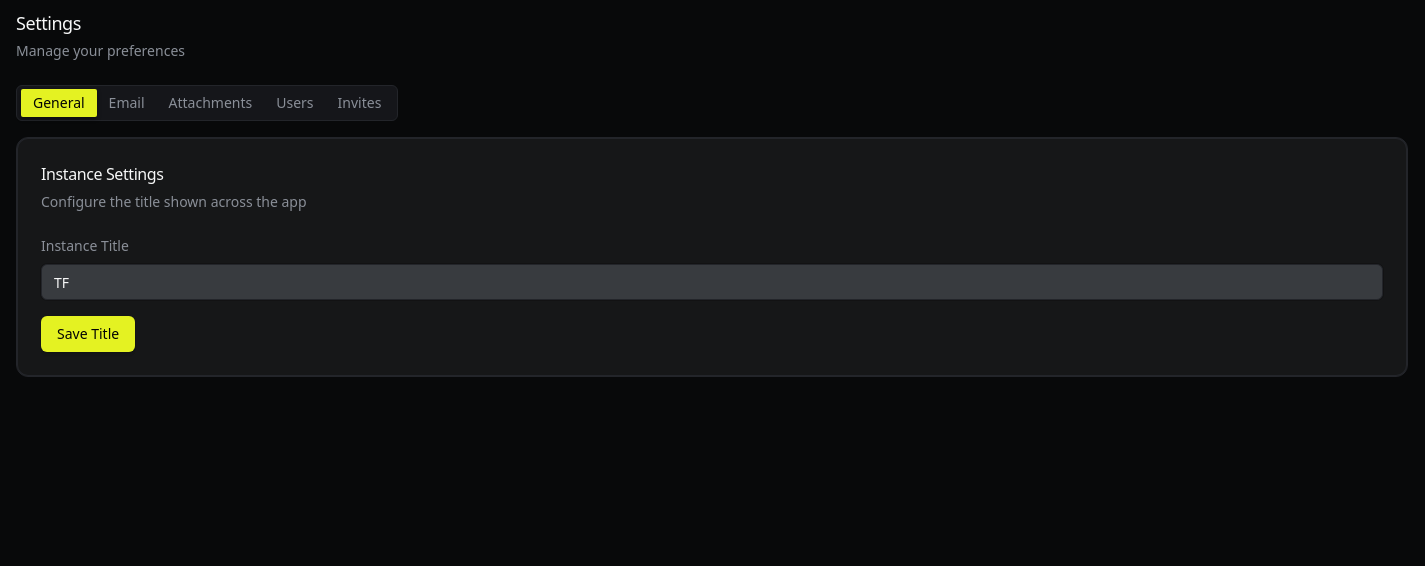
Test: SettingsPage Attachments tab › rejects a non-integer attachment file size and malformed MIME types
Click the tab "Attachments". click: [210, 103]
box: [157,89,264,117]
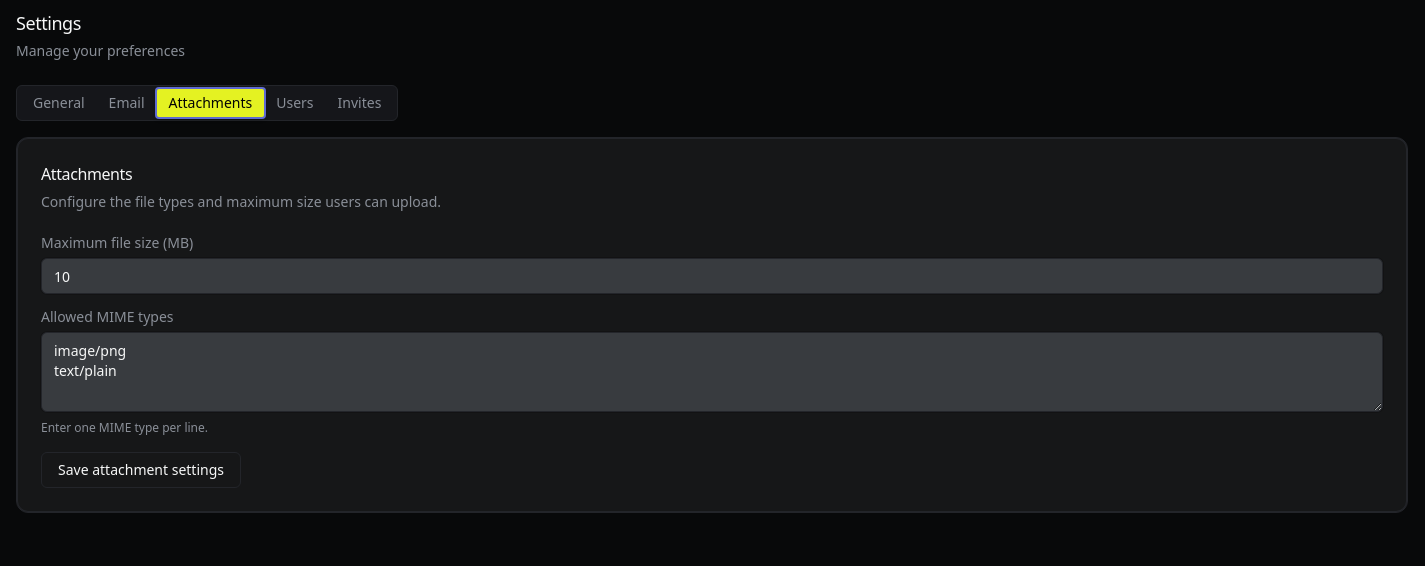
Replace the text in the number field labelled "Maximum file size (MB)" with "1.5". click: [712, 276]
box: [41,258,1383,294]
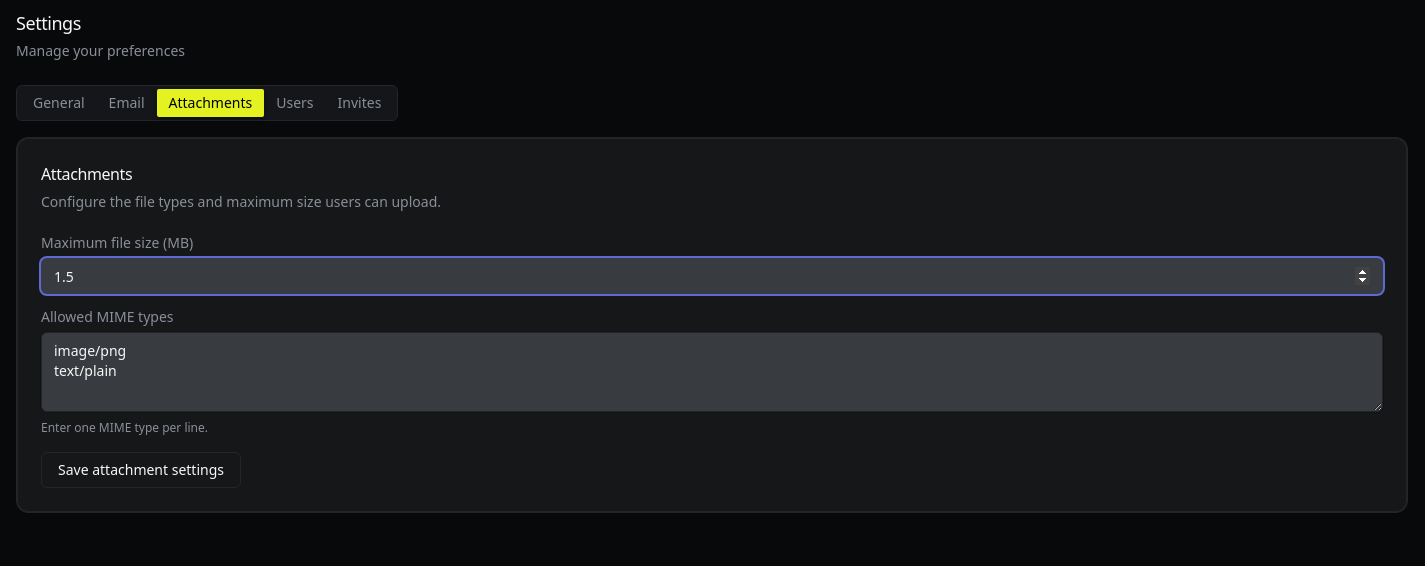
Click the button "Save attachment settings". click: [141, 470]
box: [41,452,241,488]
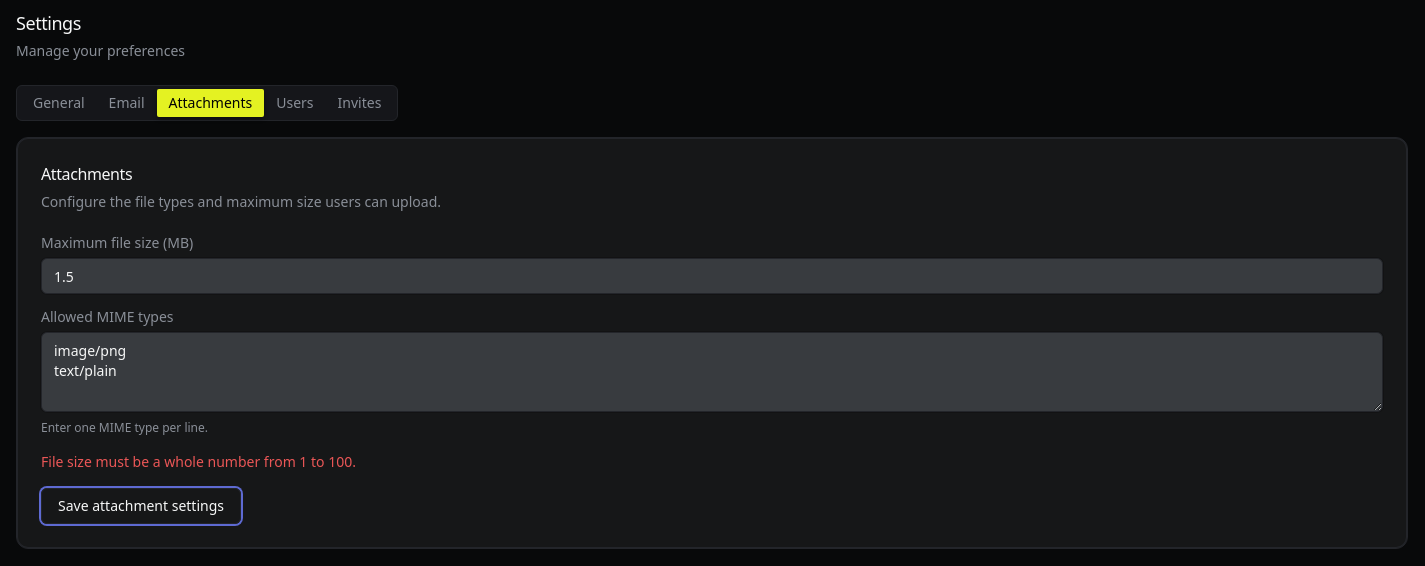
Now the text "File size must be a whole number from 1 to 100." is shown, box [41,452,356,471]
Replace the text in the number field labelled "Maximum file size (MB)" with "10". click: [712, 276]
box: [41,258,1383,294]
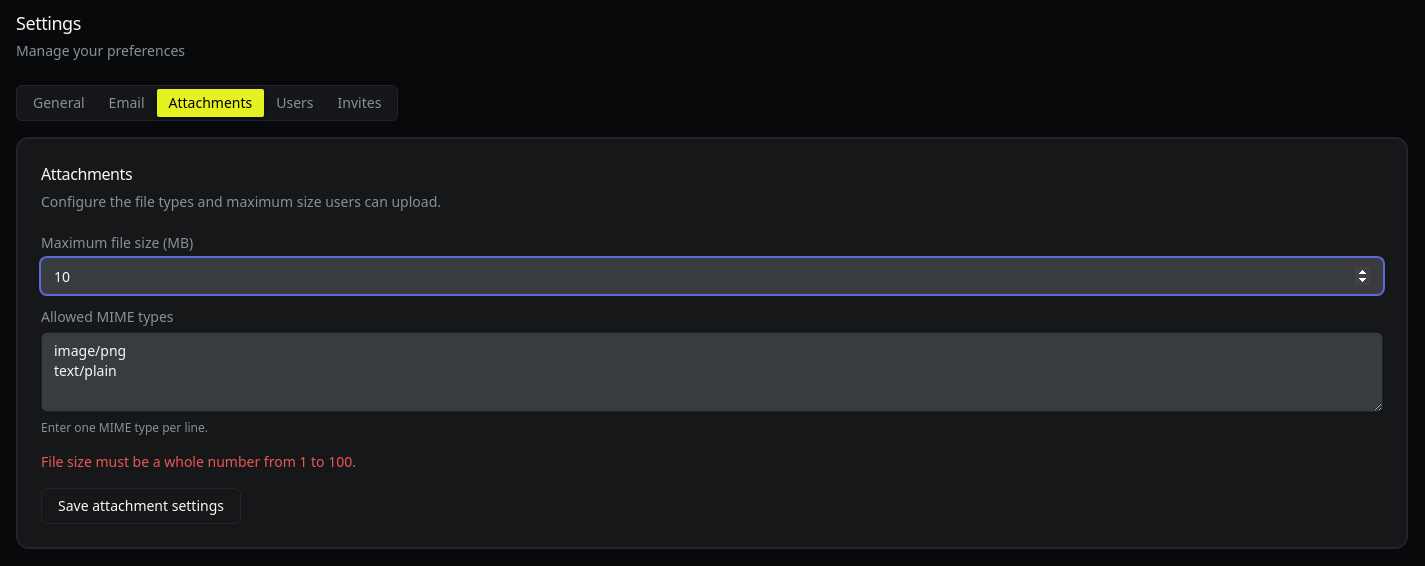
Replace the text in the text box labelled "Allowed MIME types" with "not-a-mime". click: [712, 372]
box: [41,332,1383,412]
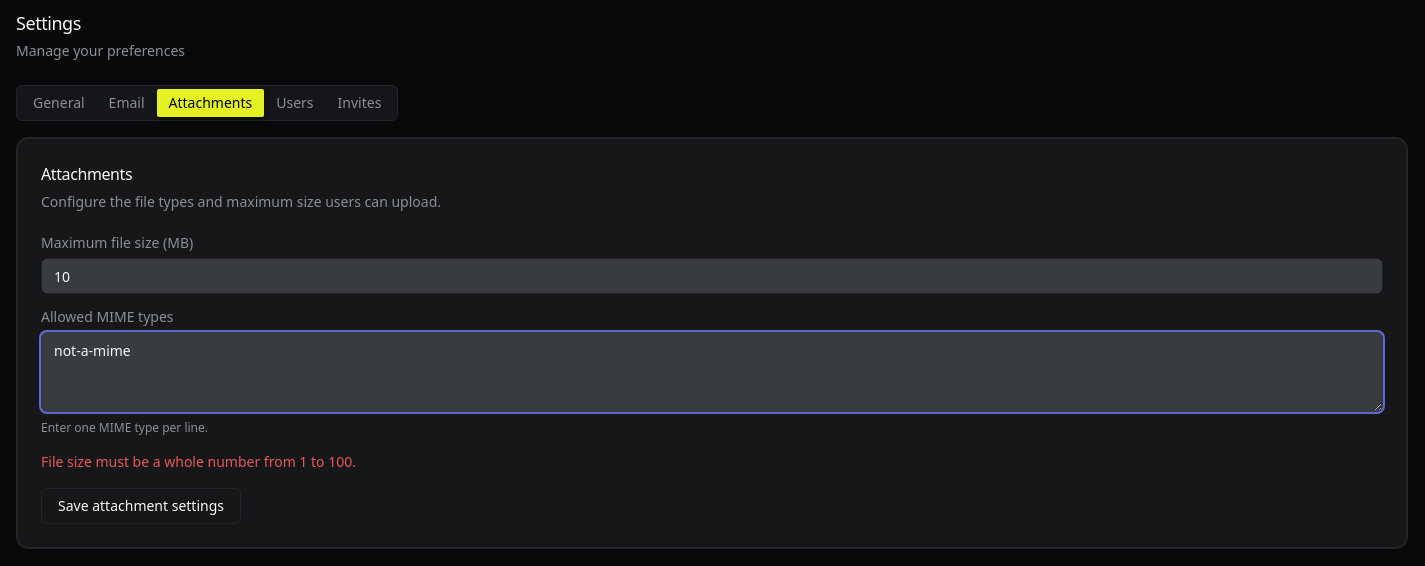
Click the button "Save attachment settings". click: [141, 506]
box: [41,488,241,524]
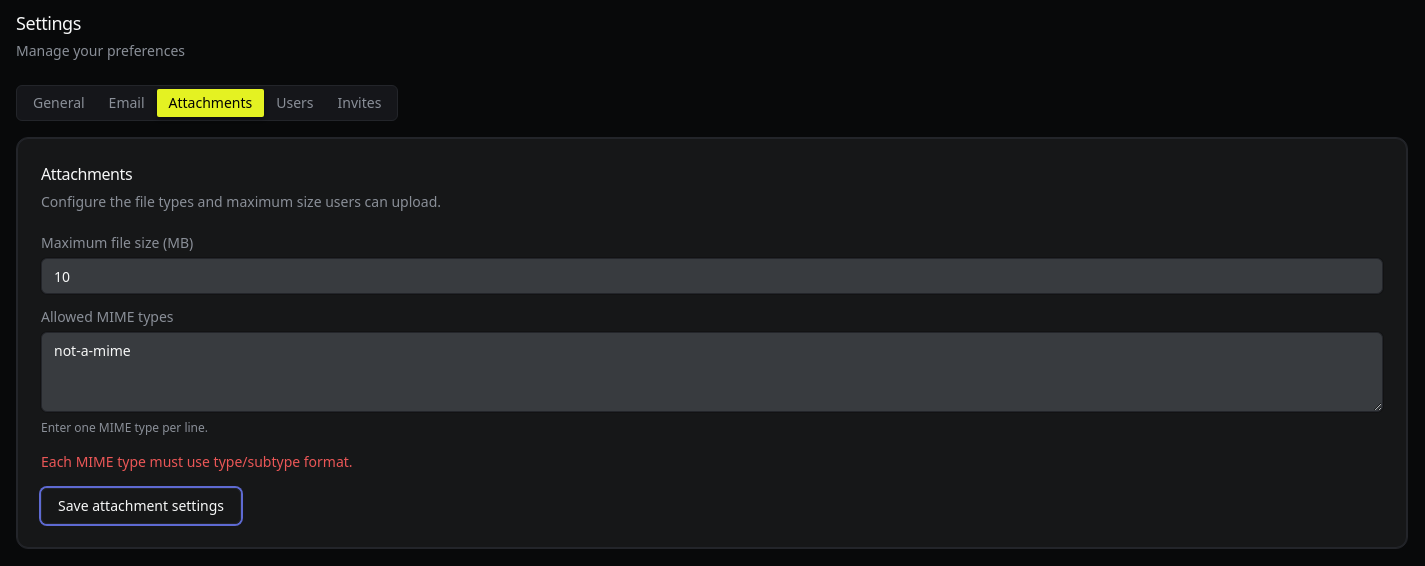
Now the text "Each MIME type must use type/subtype format." is shown, box [41,452,353,471]
